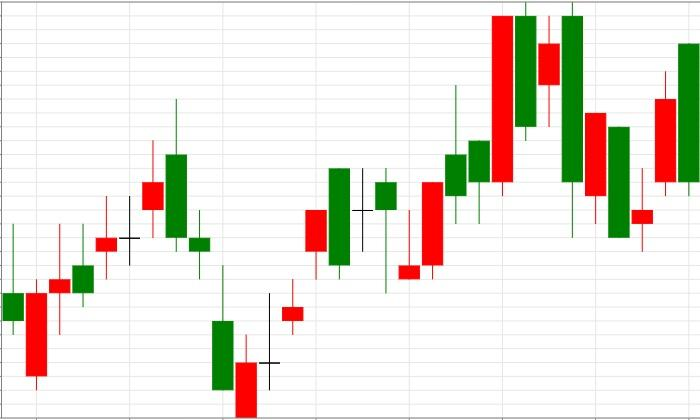bearish_engulfing_fall: (398, 2, 584, 280), (25, 99, 188, 390), (235, 168, 351, 419)
